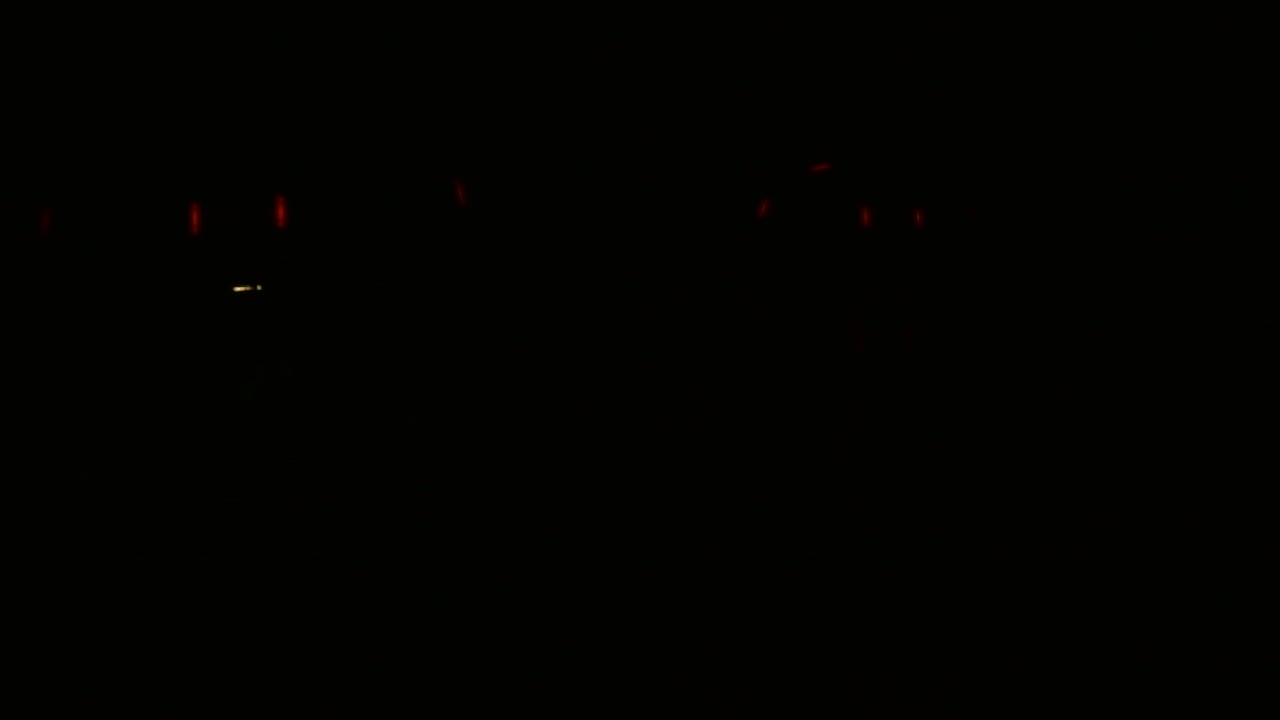pair1: (180, 189, 300, 243), (859, 207, 925, 228)
